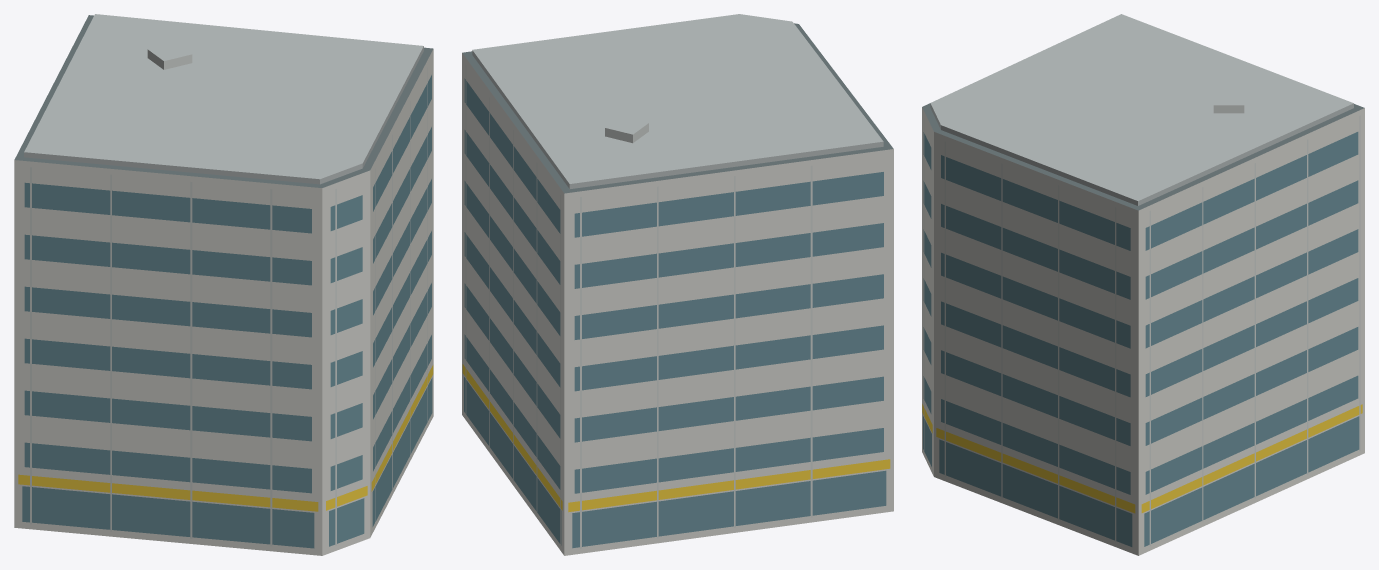
The picture shows the model from 3 angles, left to right: view 1: azimuth 30°, elevation 25°; view 2: azimuth 150°, elevation 25°; view 3: azimuth 270°, elevation 25°; orthographic projection. The views are drawn at different scales.
Visible parts, largest first — view 1: matsuya-nakasu; view 2: matsuya-nakasu; view 3: matsuya-nakasu.
Part boxes in pixels (box(x1,y1,x2,y2)): matsuya-nakasu: box(14, 14, 433, 555); matsuya-nakasu: box(462, 14, 893, 555); matsuya-nakasu: box(922, 14, 1364, 555).
Size of the model in its own units: 30.21 by 25.72 by 28.79.
